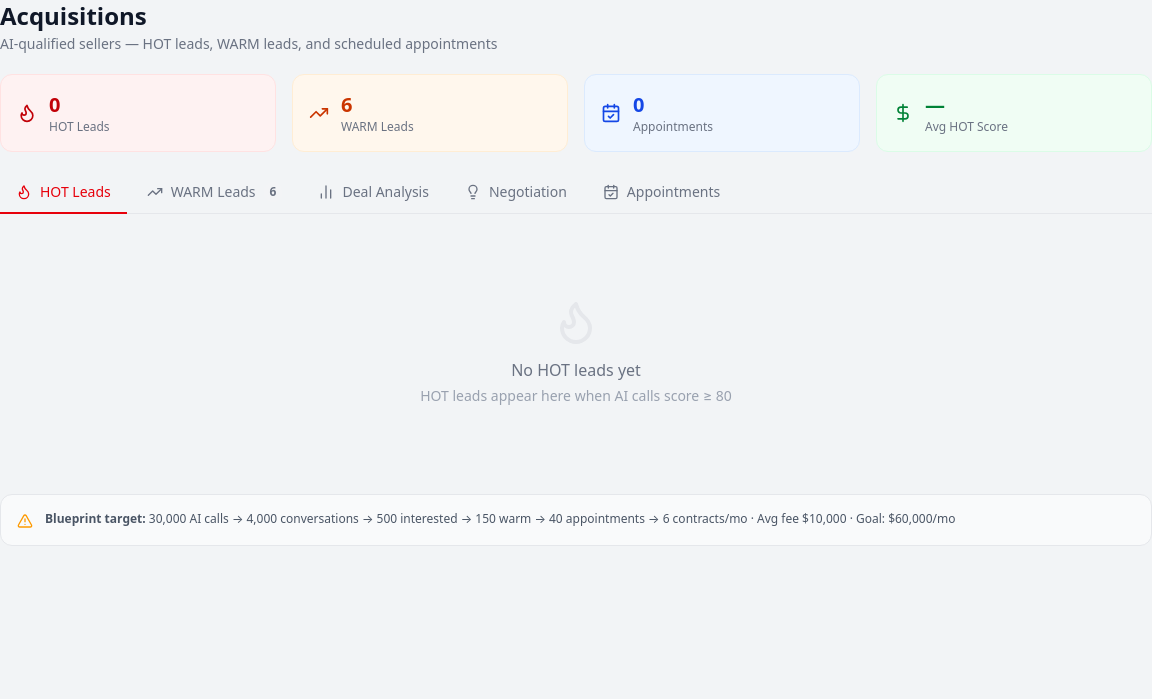
Scenario: retains partial WARM send results and locks the bulk button after an interrupted batch
The image size is (1152, 699).
Click the button "WARM Leads 6" at [215, 193], box left=131, top=172, right=298, bottom=214
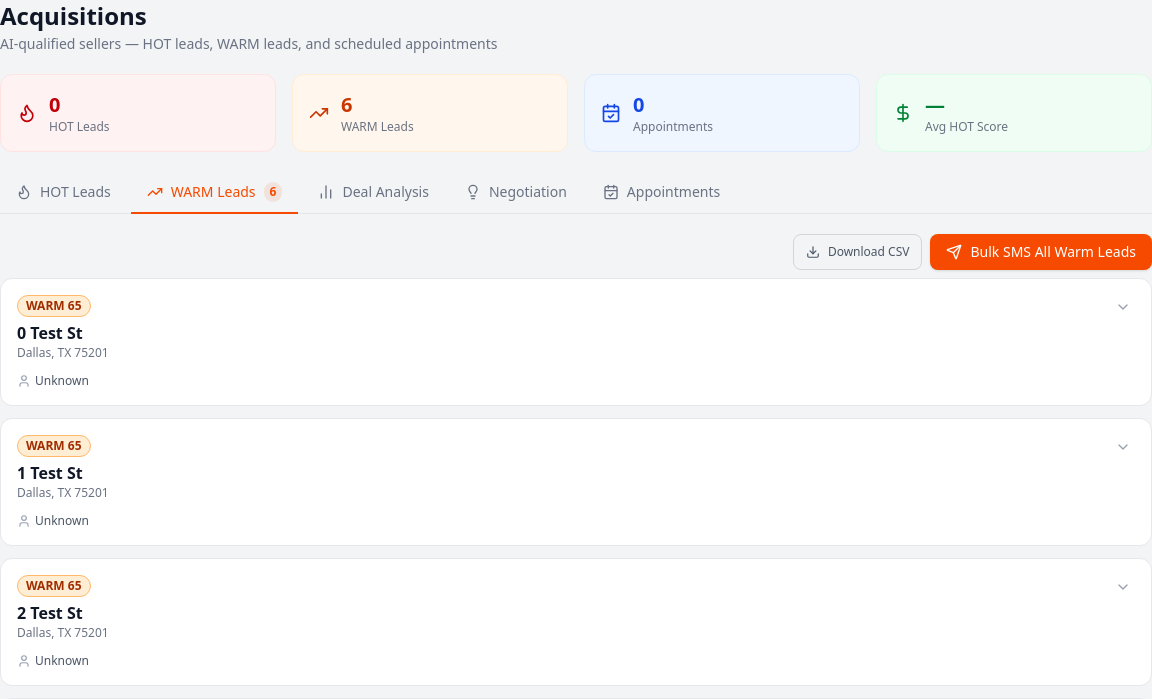
Click the button "Bulk SMS All Warm Leads" at [1041, 252], box left=930, top=234, right=1151, bottom=270
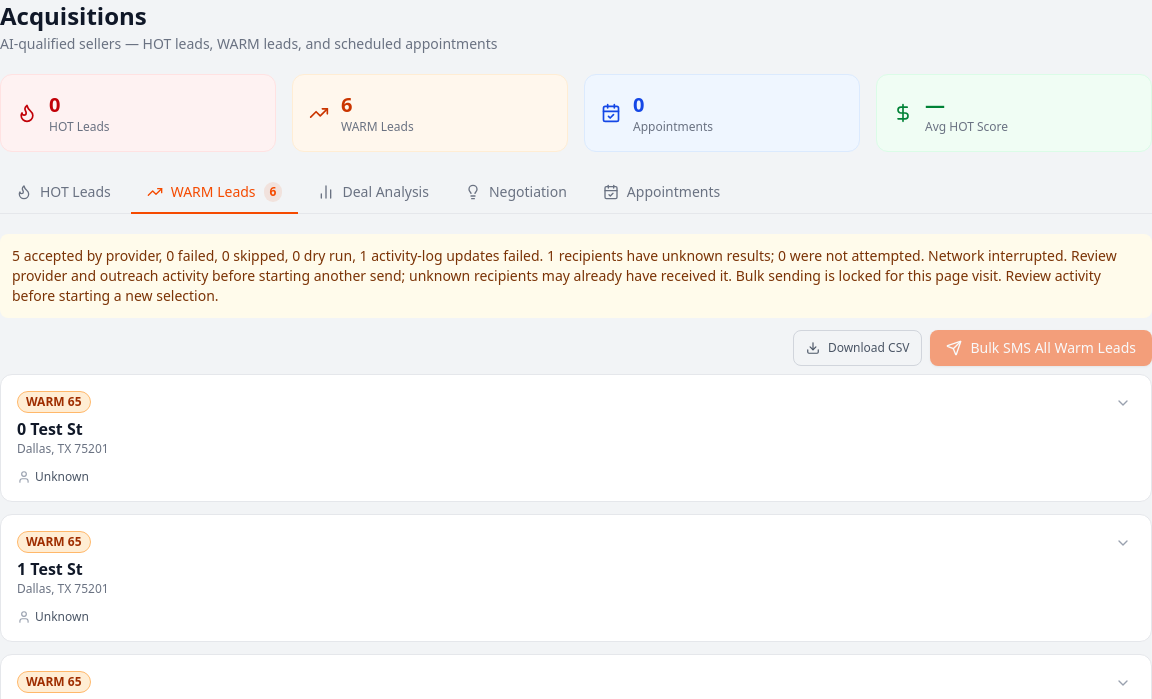
Expected: the message shows "5 accepted by provider", left=12, top=246, right=1117, bottom=285
Expected: the message shows "1 activity-log updates failed", left=12, top=246, right=1117, bottom=285
Expected: the message shows "1 recipients have unknown results", left=12, top=246, right=1117, bottom=285
